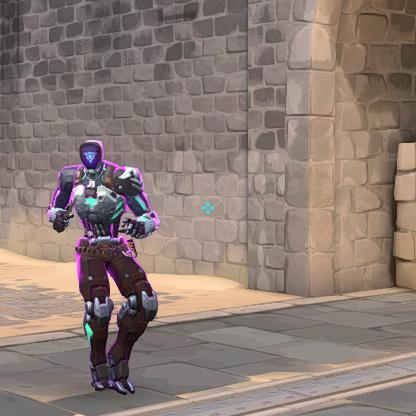enemyBody: (79, 170, 109, 232)
enemyHead: (83, 145, 99, 165)
